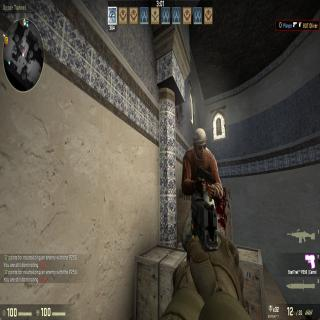T-Body: (182, 127, 223, 241)
T-Head: (190, 126, 208, 160)
